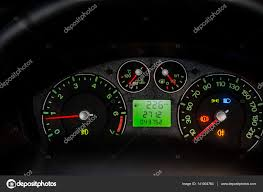Digital_Meter: (134, 115, 170, 127)
